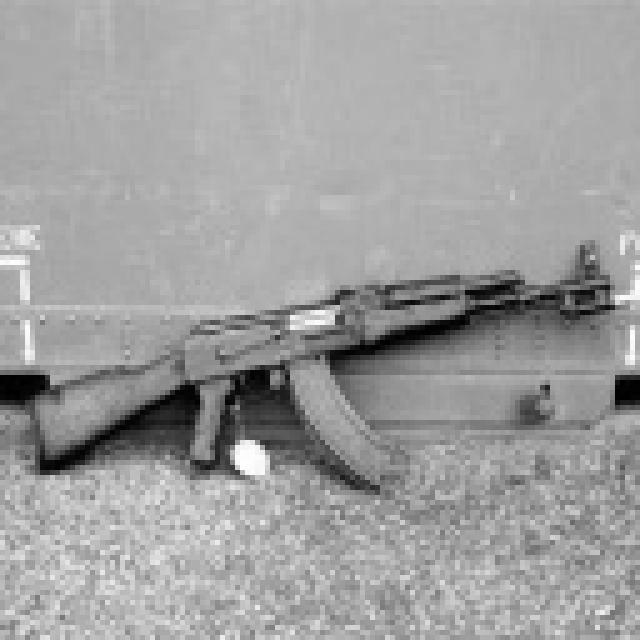Rifle: (0, 215, 620, 495)
